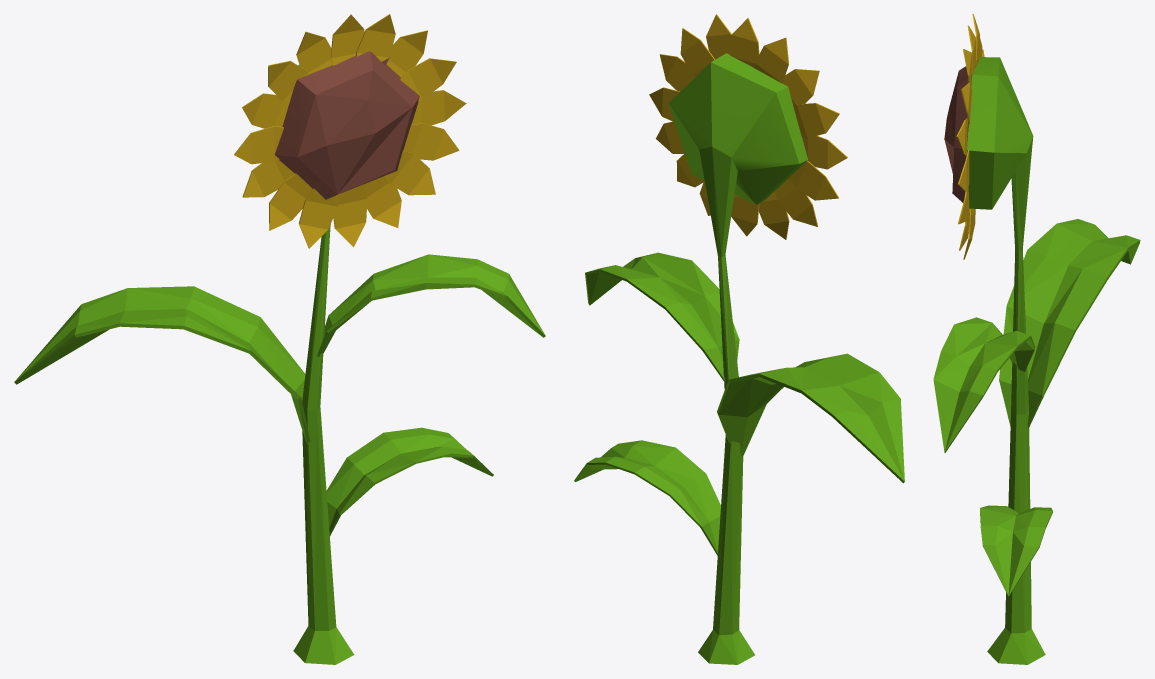
File: 049 Sunflower_1.FBX
The picture shows the model from 3 angles, left to right: view 1: azimuth 30°, elevation 25°; view 2: azimuth 150°, elevation 25°; view 3: azimuth 270°, elevation 25°; orthographic projection. The views are drawn at different scales.
Visible parts, largest first — view 1: sunflower124; view 2: sunflower124; view 3: sunflower124.
Part boxes in pixels (left/top/right/bottom): sunflower124: left=14, top=14, right=545, bottom=664; sunflower124: left=574, top=14, right=904, bottom=664; sunflower124: left=933, top=14, right=1140, bottom=664.
Bounding box in the file's own units: 82.09 × 119 × 35.4.
